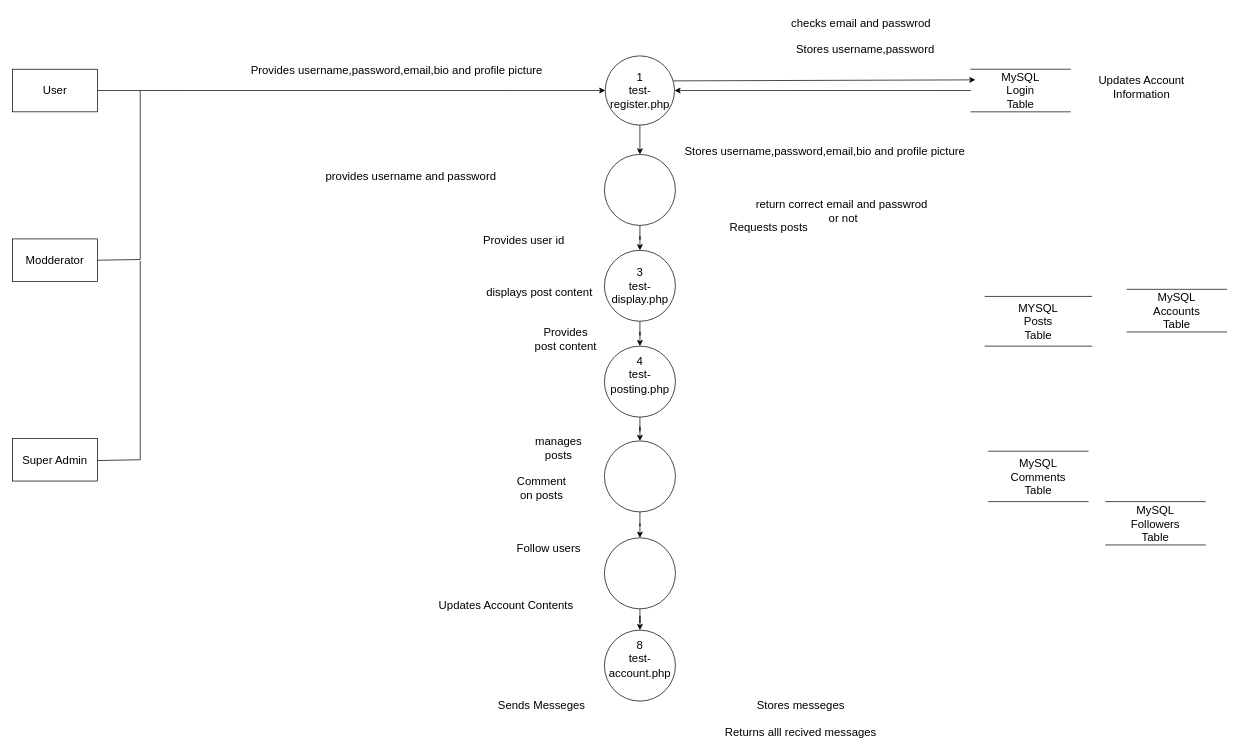
The diagram is 1239 pixels wide and 755 high, and some of its shapes have lost their labels. The shapes that lost their labels are listed below. From the top down, each one's centre as x and y in pixels, then its label:
At (x=639, y=189): "2 test-login.php".
At (x=639, y=476): "5 test-display-post.php".
At (x=639, y=573): "6 test-display-pest.php".
